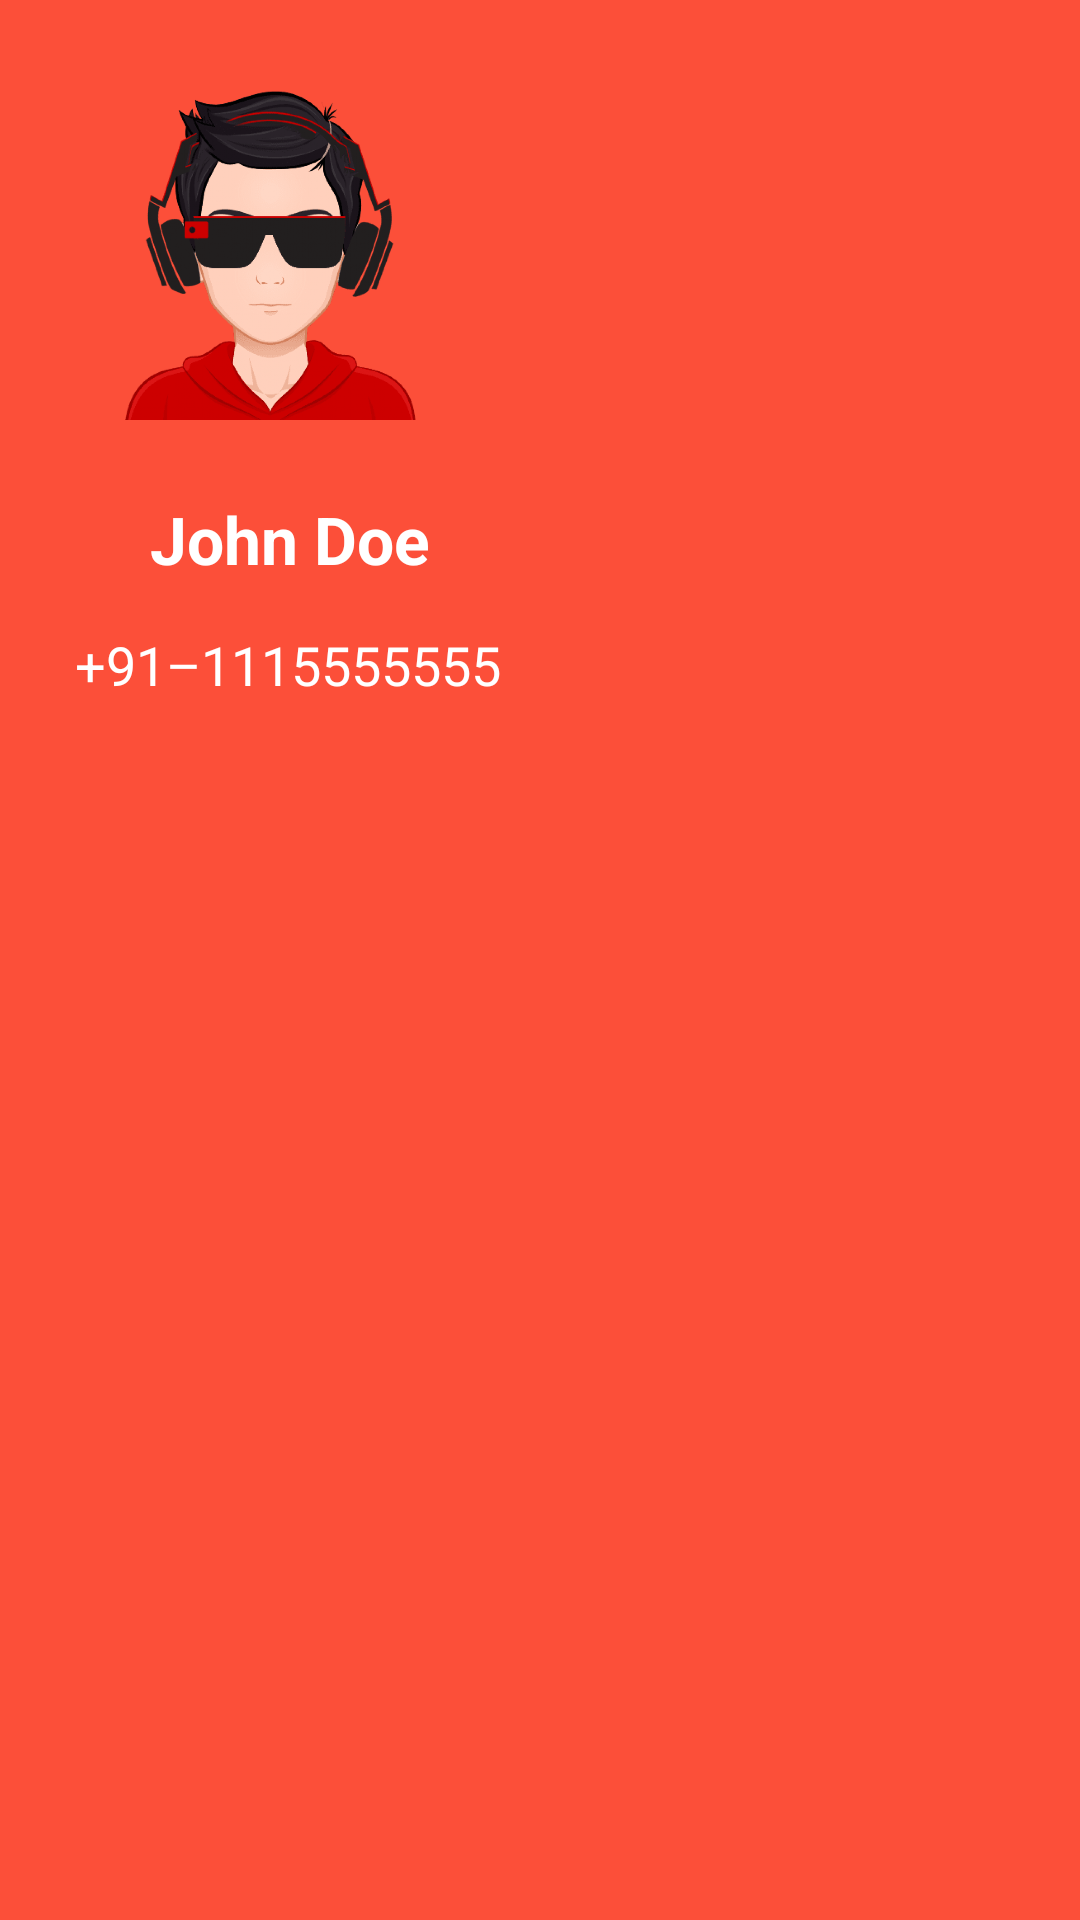

Icon click points for this 1080 × 1920 phone screenshot, format [x,y]:
current user: [270,255]
